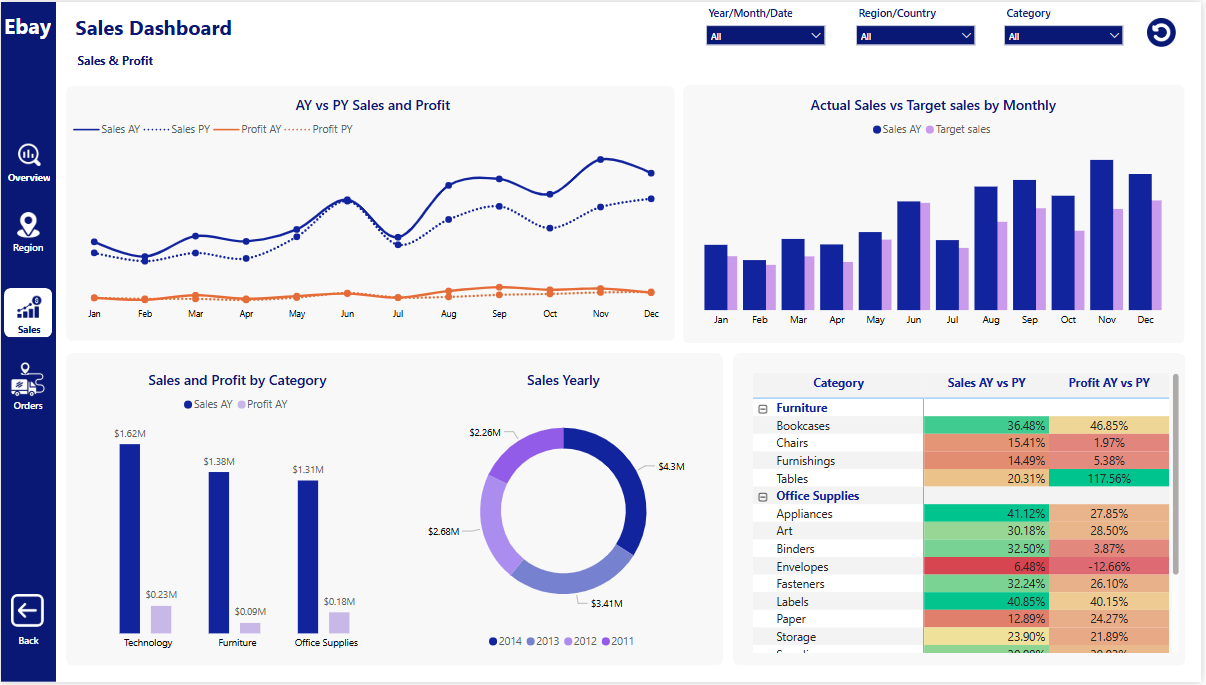

This screenshot's page, from the dashboard's own definition file:
{"tool":"powerbi","page":{"name":"Sales/Profit","canvas":[1500,850],"ordinal":3},"visuals":[{"type":"shape","box":[0,0,68.7,849.6],"z":0},{"type":"slicer","fields":{"Values":["Sales.Order Year","Sales.Month","Sales.Order Date"]},"box":[871.1,0,168.7,54.2],"z":0,"group":"g1"},{"type":"slicer","fields":{"Values":["Sales.Region","Sales.Country"]},"box":[1058.7,0,169.3,54.2],"z":1000,"group":"g1"},{"type":"shape","box":[853.1,103.8,627.4,323.5],"z":1000},{"type":"slicer","fields":{"Values":["Sales.Category"]},"box":[1243.2,0,169.3,54.2],"z":2000,"group":"g1"},{"type":"shape","box":[914.7,438.3,565.6,391.1],"z":2000},{"type":"image","box":[1422.6,14.4,55.1,45.9],"z":3000,"group":"g1"},{"type":"shape","box":[81.4,438.3,821.5,391.1],"z":3000},{"type":"shape","box":[81.2,105.3,761.3,319],"z":4000},{"type":"lineChart","title":"AY vs PY Sales and Profit ","fields":{"Category":["Tableau Datasets (1).Month"],"Y2":["profit margin.Sales Thi year","profit margin.Sales pre year","profit margin.Profit Thi year","profit margin.Profit pre year"]},"box":[85.8,115.8,756.8,291.9],"z":5000},{"type":"pivotTable","fields":{"Rows":["Tableau Datasets (1).Category","Tableau Datasets (1).Sub-Category"],"Values":["profit margin.AY VS PY Sales","profit margin.AY VS PY Profit"]},"box":[934.4,459.3,543.3,359.6],"z":6000},{"type":"clusteredColumnChart","title":"Sales and Profit by Category","fields":{"Y":["profit margin.Sales Thi year","profit margin.Profit Thi year"],"Category":["Tableau Datasets (1).Category"]},"box":[98.7,460,393.1,359.6],"z":7000},{"type":"donutChart","title":"Sales Yearly","fields":{"Y":["profit margin.Sales Thi year"],"Category":["Tableau Datasets (1).Order Year"]},"box":[515.1,460.3,375.8,358.6],"z":8000},{"type":"shape","box":[1.5,206.1,67.7,24.1],"z":9000},{"type":"shape","box":[0,293.4,67.7,25.6],"z":10000},{"type":"image","box":[6,257.8,55,42],"z":11000},{"type":"image","box":[7.5,170,55.7,42.1],"z":12000},{"type":"shape","box":[78.2,3,224.2,57.2],"z":13000},{"type":"shape","box":[63.2,57.2,158,30.1],"z":14000},{"type":"shape","box":[0,492,67.7,21.1],"z":15000},{"type":"shape","box":[4.1,358.1,60.2,61.7],"z":16000},{"type":"image","box":[1.5,445.3,64.7,52.7],"z":17000},{"type":"image","box":[7.1,359.6,55.7,42.1],"z":18000},{"type":"shape","box":[1.1,391.2,67.7,33.1],"z":19000},{"type":"shape","box":[3,0,61.7,57.2],"z":20000},{"type":"group","id":"g1","title":"Group 1","box":[871.1,0,606.6,60.4],"z":21000},{"type":"clusteredColumnChart","title":"Actual Sales vs Target sales by Monthly","fields":{"Category":["Tableau Datasets (1).Month"],"Y":["profit margin.Sales Thi year","profit margin.Target sales"]},"box":[855.4,116.5,620.5,299.2],"z":22000},{"type":"actionButton","box":[0,165.5,67.7,64.7],"z":23000},{"type":"actionButton","box":[0,257.3,67.7,64.7],"z":24000},{"type":"actionButton","box":[0,448.3,67.7,64.7],"z":25000},{"type":"image","box":[7.9,734.9,51.2,51.2],"z":26000},{"type":"shape","box":[1.5,783.9,66.2,28.6],"z":27000},{"type":"actionButton","box":[3,728.2,63.2,84.3],"z":28000}]}

Visuals, with their boxes on the page's 1500x850 design canvas (x1, y1, x2, y2). These are canvas units, not pixel positions in the 1206x685 screenshot, which may show the page scaled, cropped or inside an application window:
shape: (0, 0, 69, 850)
slicer - Sales.Order Year x Sales.Month: (871, 0, 1040, 54)
slicer - Sales.Region x Sales.Country: (1059, 0, 1228, 54)
shape: (853, 104, 1480, 427)
slicer - Sales.Category: (1243, 0, 1412, 54)
shape: (915, 438, 1480, 829)
image: (1423, 14, 1478, 60)
shape: (81, 438, 903, 829)
shape: (81, 105, 842, 424)
"AY vs PY Sales and Profit " lineChart: (86, 116, 843, 408)
pivotTable - Tableau Datasets (1).Category x Tableau Datasets (1).Sub-Category: (934, 459, 1478, 819)
"Sales and Profit by Category" clusteredColumnChart: (99, 460, 492, 820)
"Sales Yearly" donutChart: (515, 460, 891, 819)
shape: (2, 206, 69, 230)
shape: (0, 293, 68, 319)
image: (6, 258, 61, 300)
image: (8, 170, 63, 212)
shape: (78, 3, 302, 60)
shape: (63, 57, 221, 87)
shape: (0, 492, 68, 513)
shape: (4, 358, 64, 420)
image: (2, 445, 66, 498)
image: (7, 360, 63, 402)
shape: (1, 391, 69, 424)
shape: (3, 0, 65, 57)
"Group 1" group: (871, 0, 1478, 60)
"Actual Sales vs Target sales by Monthly" clusteredColumnChart: (855, 116, 1476, 416)
actionButton: (0, 166, 68, 230)
actionButton: (0, 257, 68, 322)
actionButton: (0, 448, 68, 513)
image: (8, 735, 59, 786)
shape: (2, 784, 68, 812)
actionButton: (3, 728, 66, 812)
